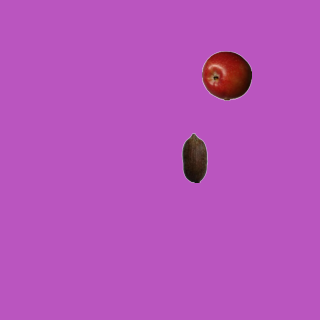Apple Braeburn: (201, 50, 251, 100)
Nut Pecan: (169, 132, 219, 182)
